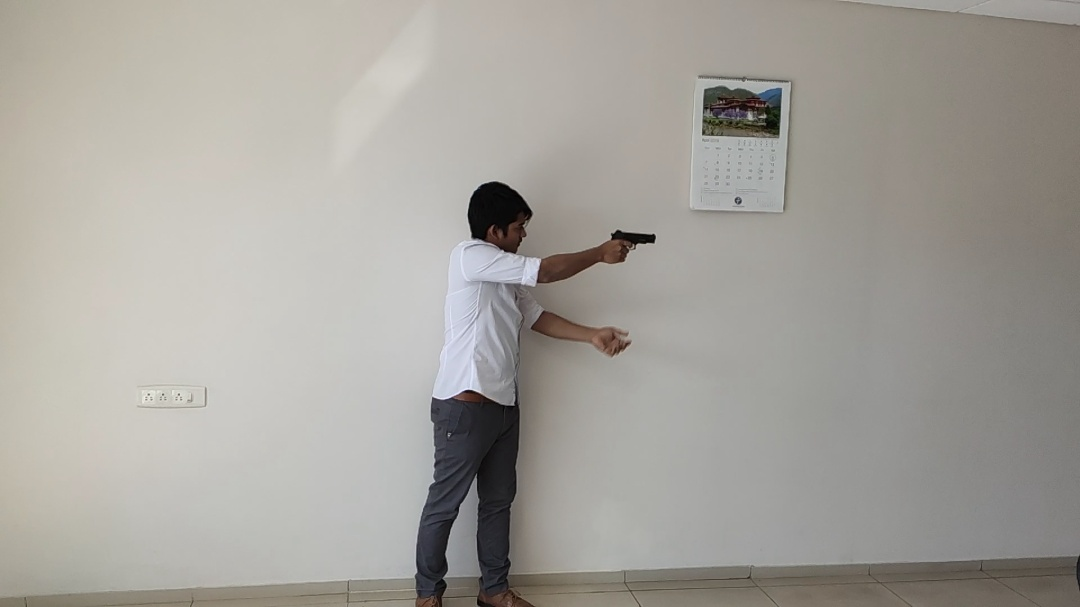gun: (610, 229, 657, 251)
